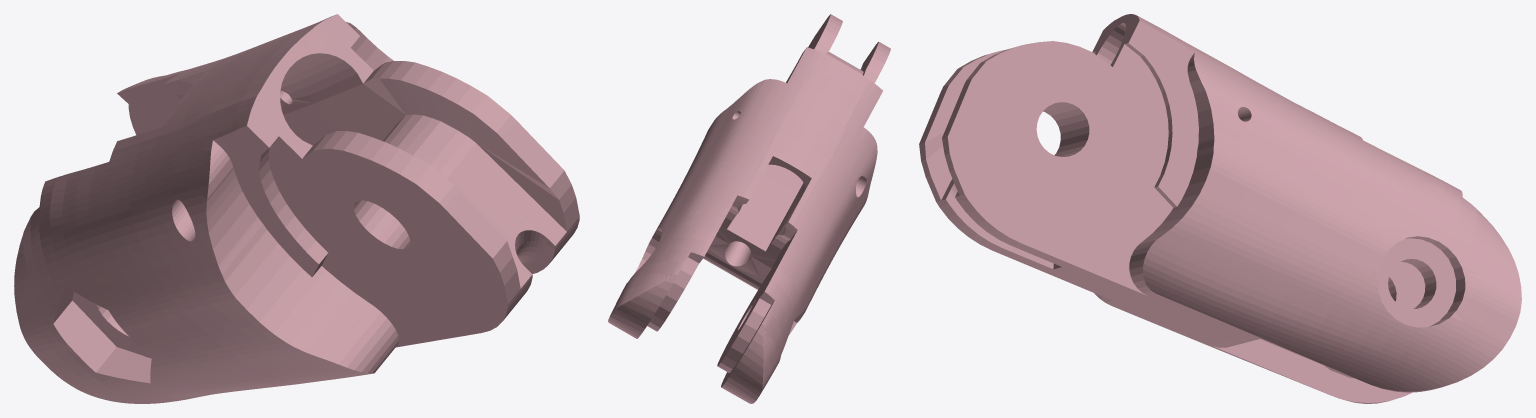
Rendered from i02_rightHand_indexMid_visual.obj.
3 renders of one model, left to right at view 1: azimuth 30°, elevation 25°; view 2: azimuth 150°, elevation 25°; view 3: azimuth 270°, elevation 25°, orthographic. The views are drawn at different scales.
Visible parts, largest first — view 1: i02_rightHand_indexMid_visual.001; view 2: i02_rightHand_indexMid_visual.001; view 3: i02_rightHand_indexMid_visual.001.
Part boxes in pixels (x1,y1,x2,y2): i02_rightHand_indexMid_visual.001: (14, 14, 579, 403); i02_rightHand_indexMid_visual.001: (608, 14, 890, 403); i02_rightHand_indexMid_visual.001: (919, 14, 1521, 403).
Size of the model in its own units: 0.1771 by 0.2842 by 0.3928.
